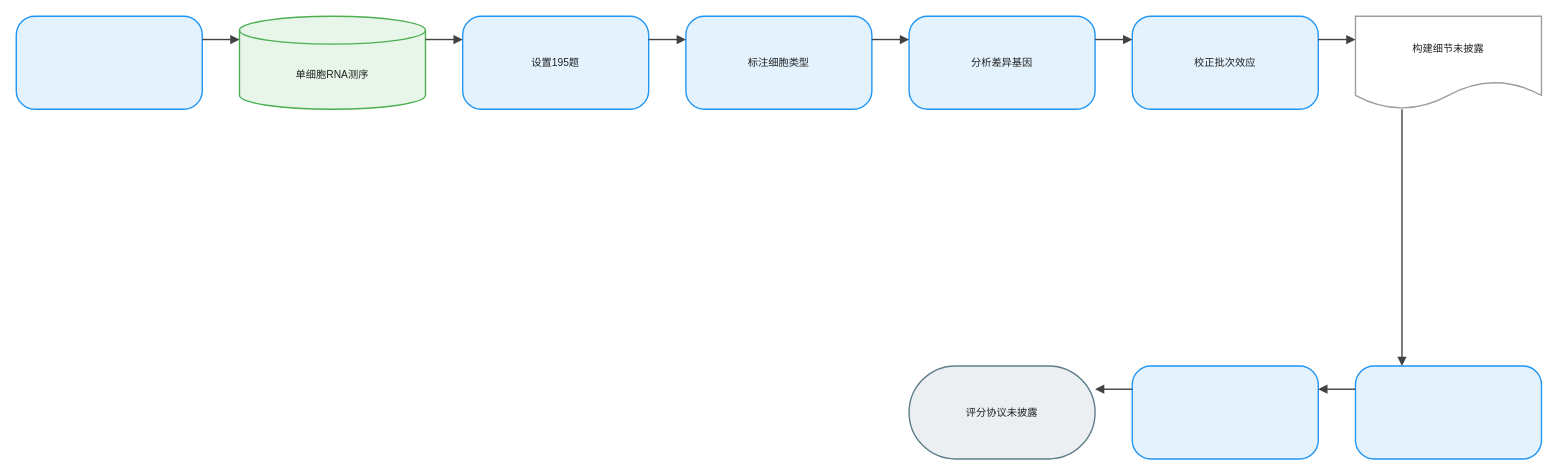
Image size: 1559x476. Some labels were removed from this diagram. Here are the shapes that lost their labels. From the top down, the centre of each, then its label:
the point at 109,62: LatchBio评测
the point at 1225,412: 回答生物问题
the point at 1448,412: 运行195题
